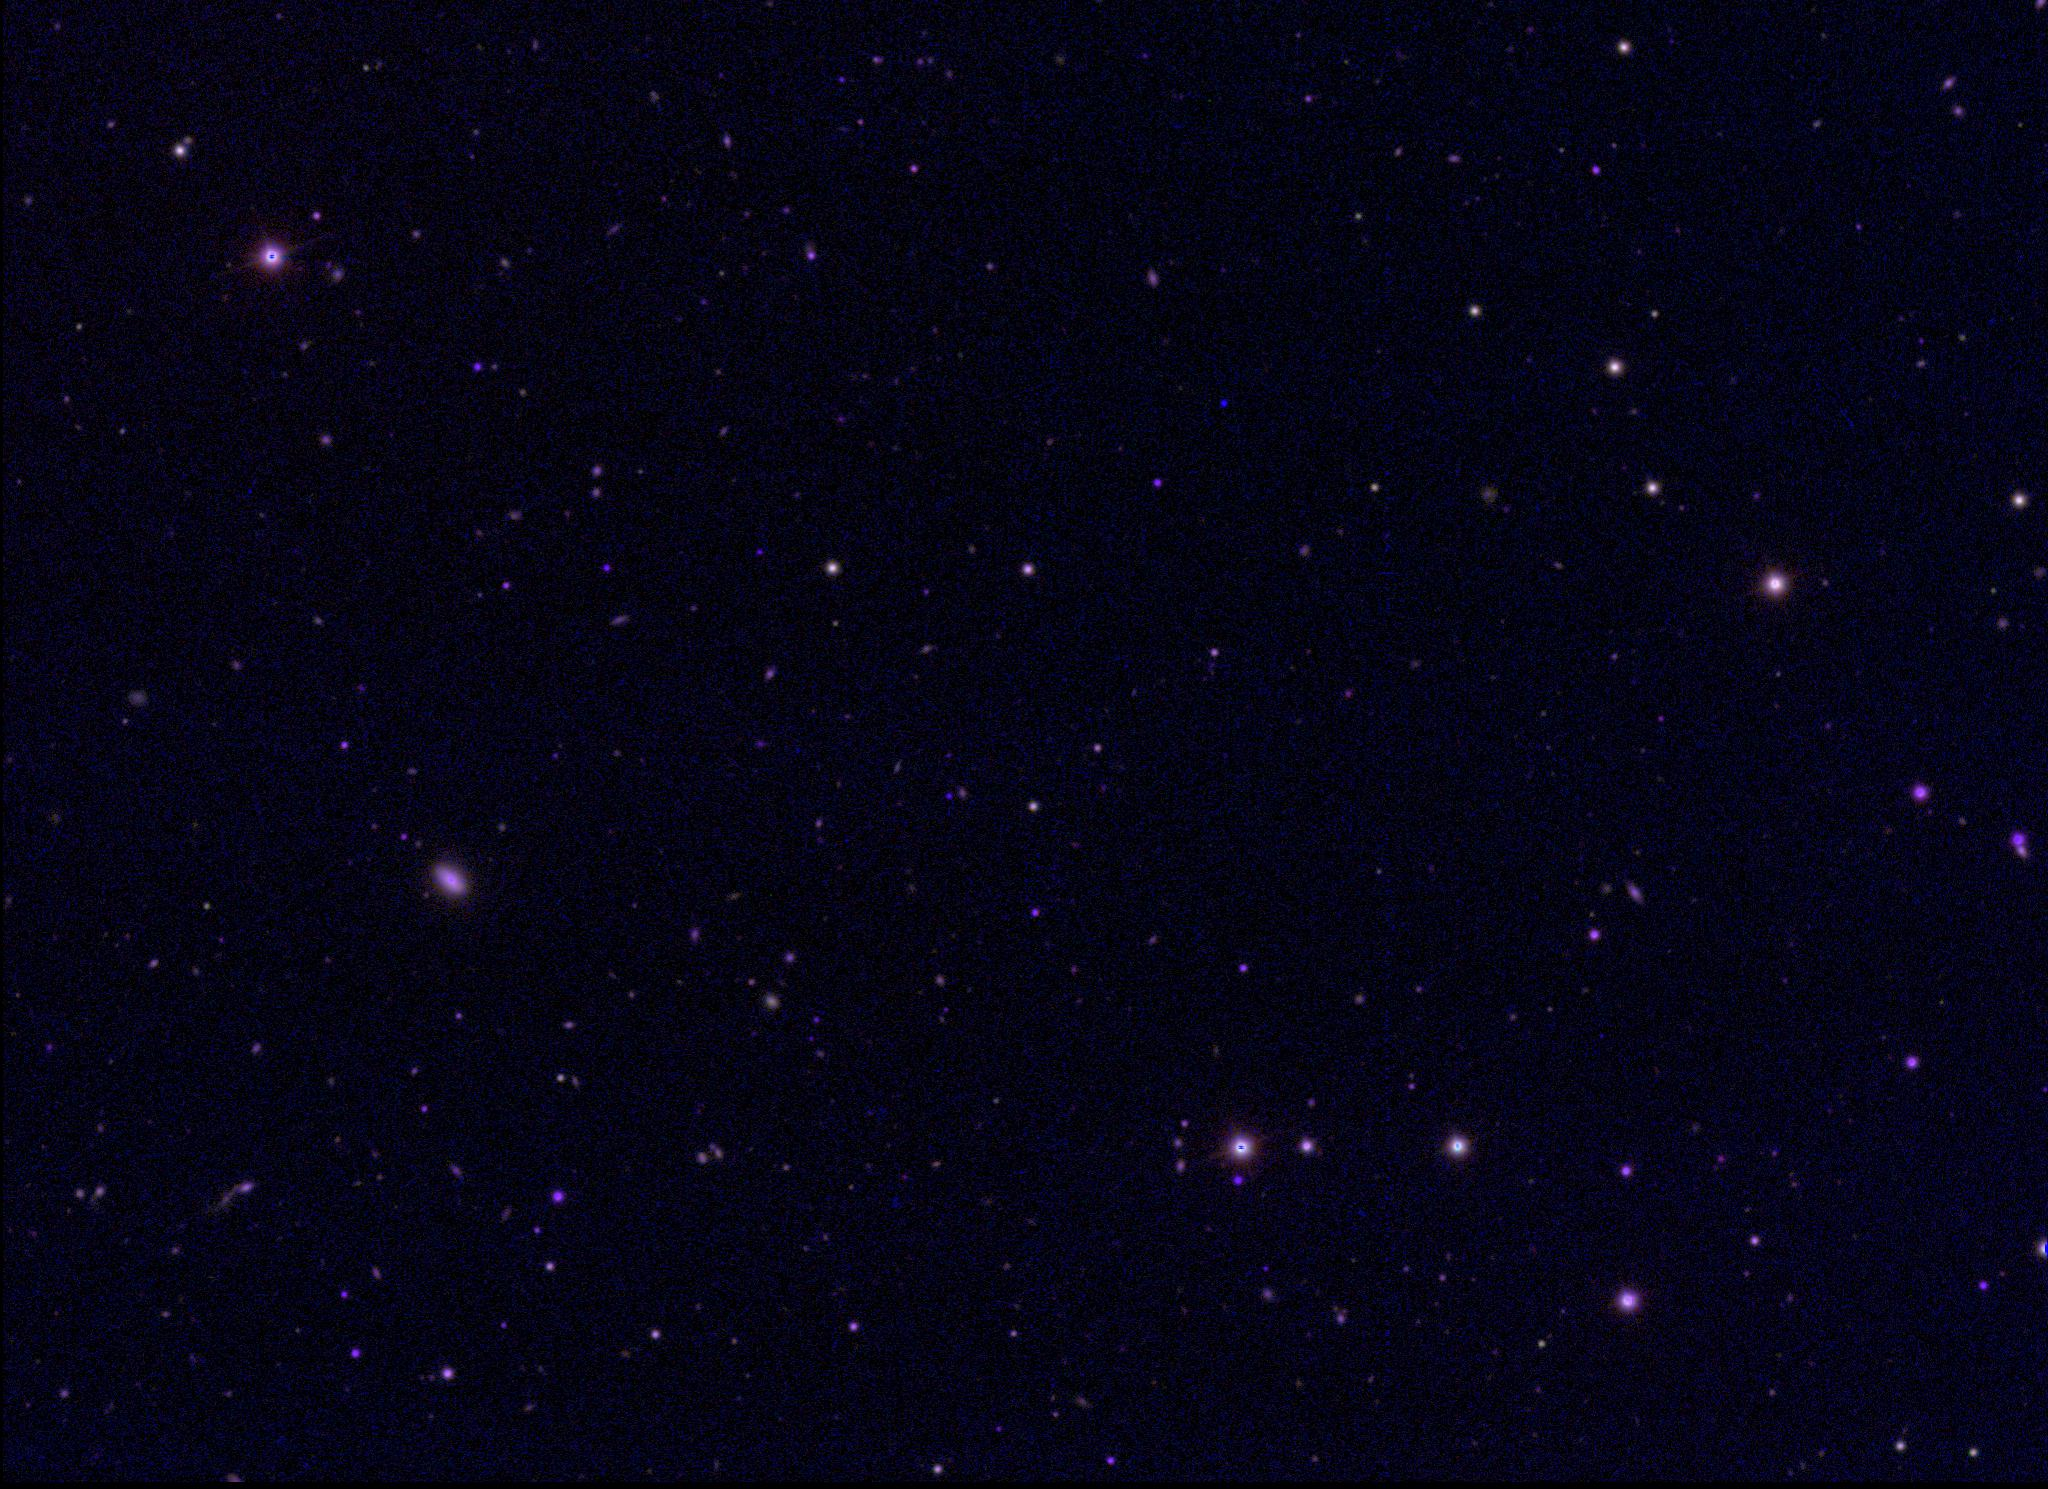L: (1216, 398, 1231, 410)
